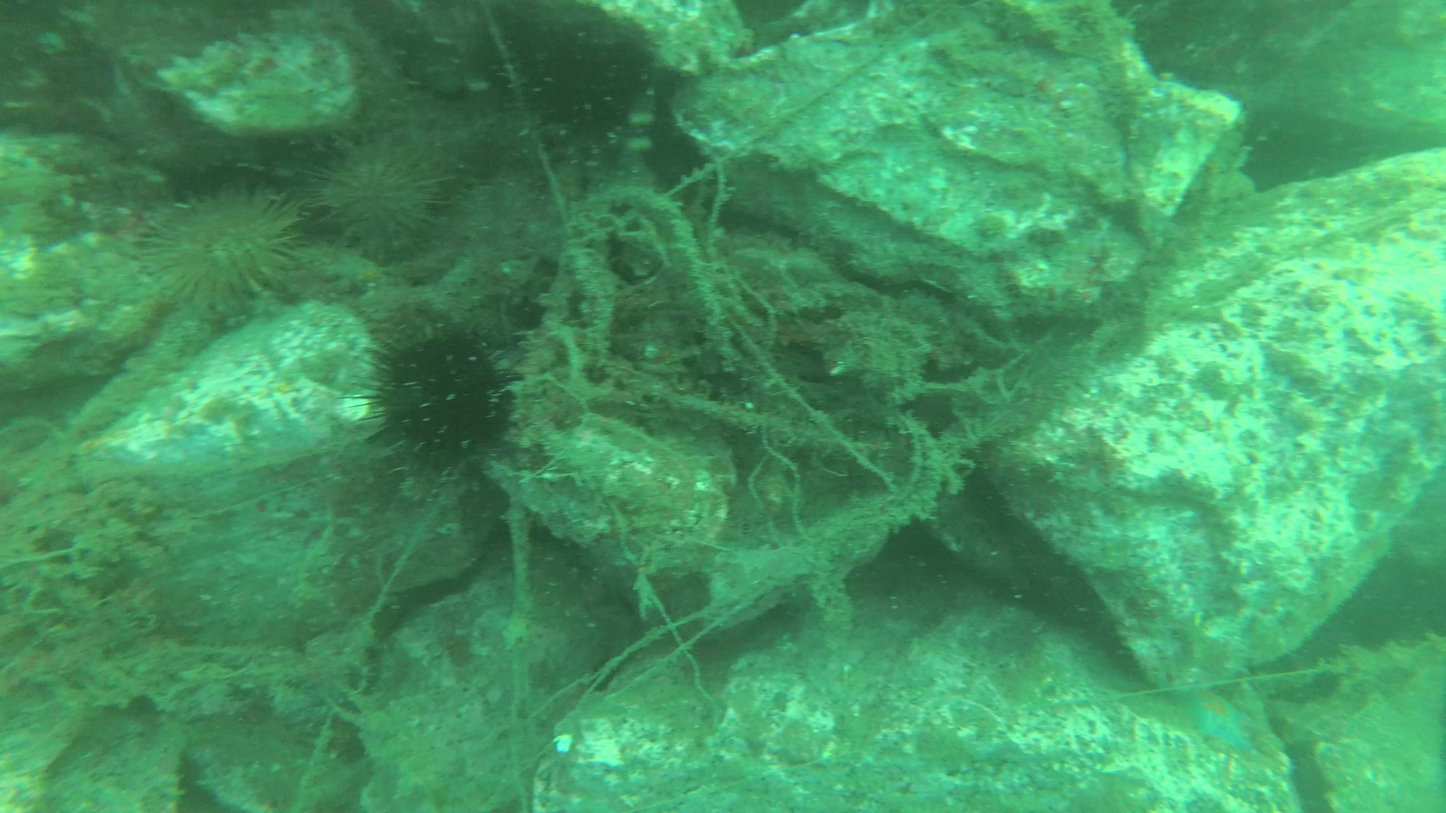holothurian: (1179, 684, 1260, 759)
starfish: (340, 316, 539, 478), (310, 108, 469, 287), (125, 174, 311, 323)
